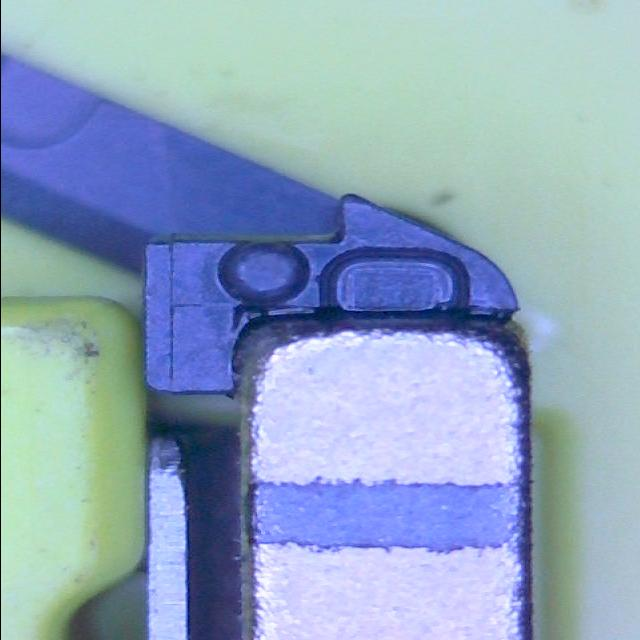lacking: (317, 245, 473, 319)
